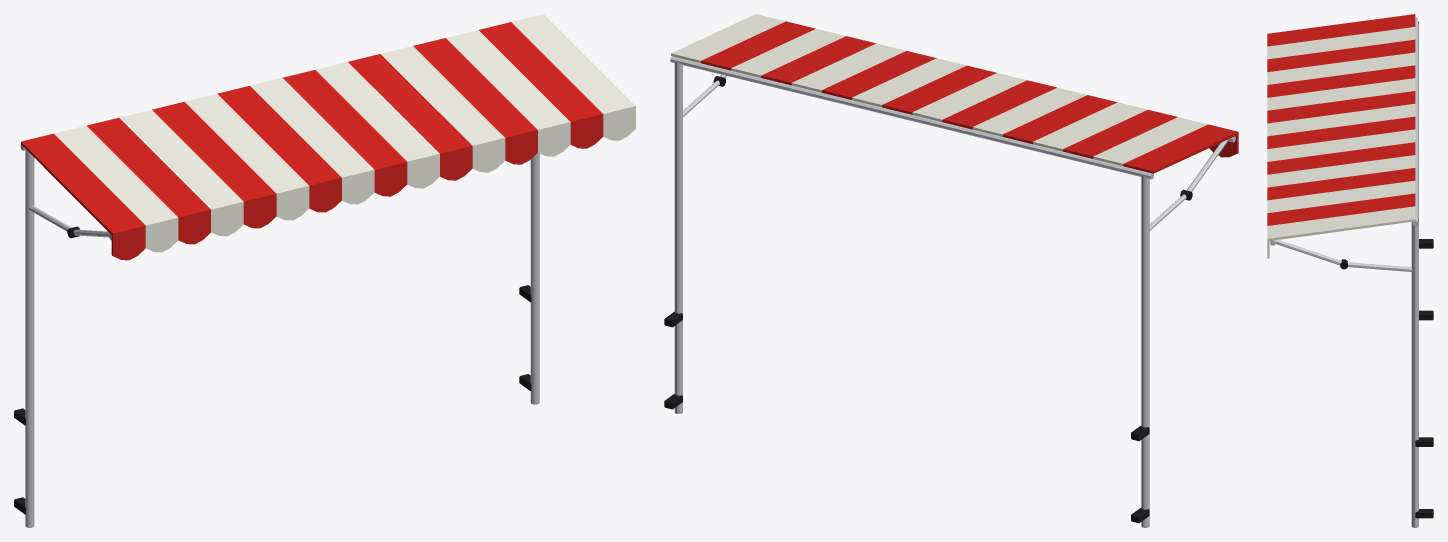
The model's file is toldo_rayado_mediano.glb.
The picture shows the model from 3 angles, left to right: view 1: azimuth 30°, elevation 25°; view 2: azimuth 150°, elevation 25°; view 3: azimuth 270°, elevation 25°; orthographic projection. The views are drawn at different scales.
Visible parts, largest first — view 1: pieza_tramo, pieza_punta_izq, pieza_punta_der; view 2: pieza_tramo, pieza_punta_izq, pieza_punta_der; view 3: pieza_tramo, pieza_punta_der, pieza_punta_izq.
Boxes of the visible parts, box(x1,y1,x2,y2) form: pieza_tramo: box(87, 30, 570, 244); pieza_punta_izq: box(14, 125, 178, 527); pieza_punta_der: box(479, 14, 635, 404); pieza_tramo: box(729, 28, 1177, 164); pieza_punta_izq: box(1091, 117, 1238, 527); pieza_punta_der: box(664, 14, 815, 413); pieza_tramo: box(1267, 39, 1417, 213); pieza_punta_der: box(1267, 193, 1433, 527); pieza_punta_izq: box(1267, 14, 1433, 320).
Size of what is drawn, in the model's own units: 2.4 by 1.7 by 0.822.
